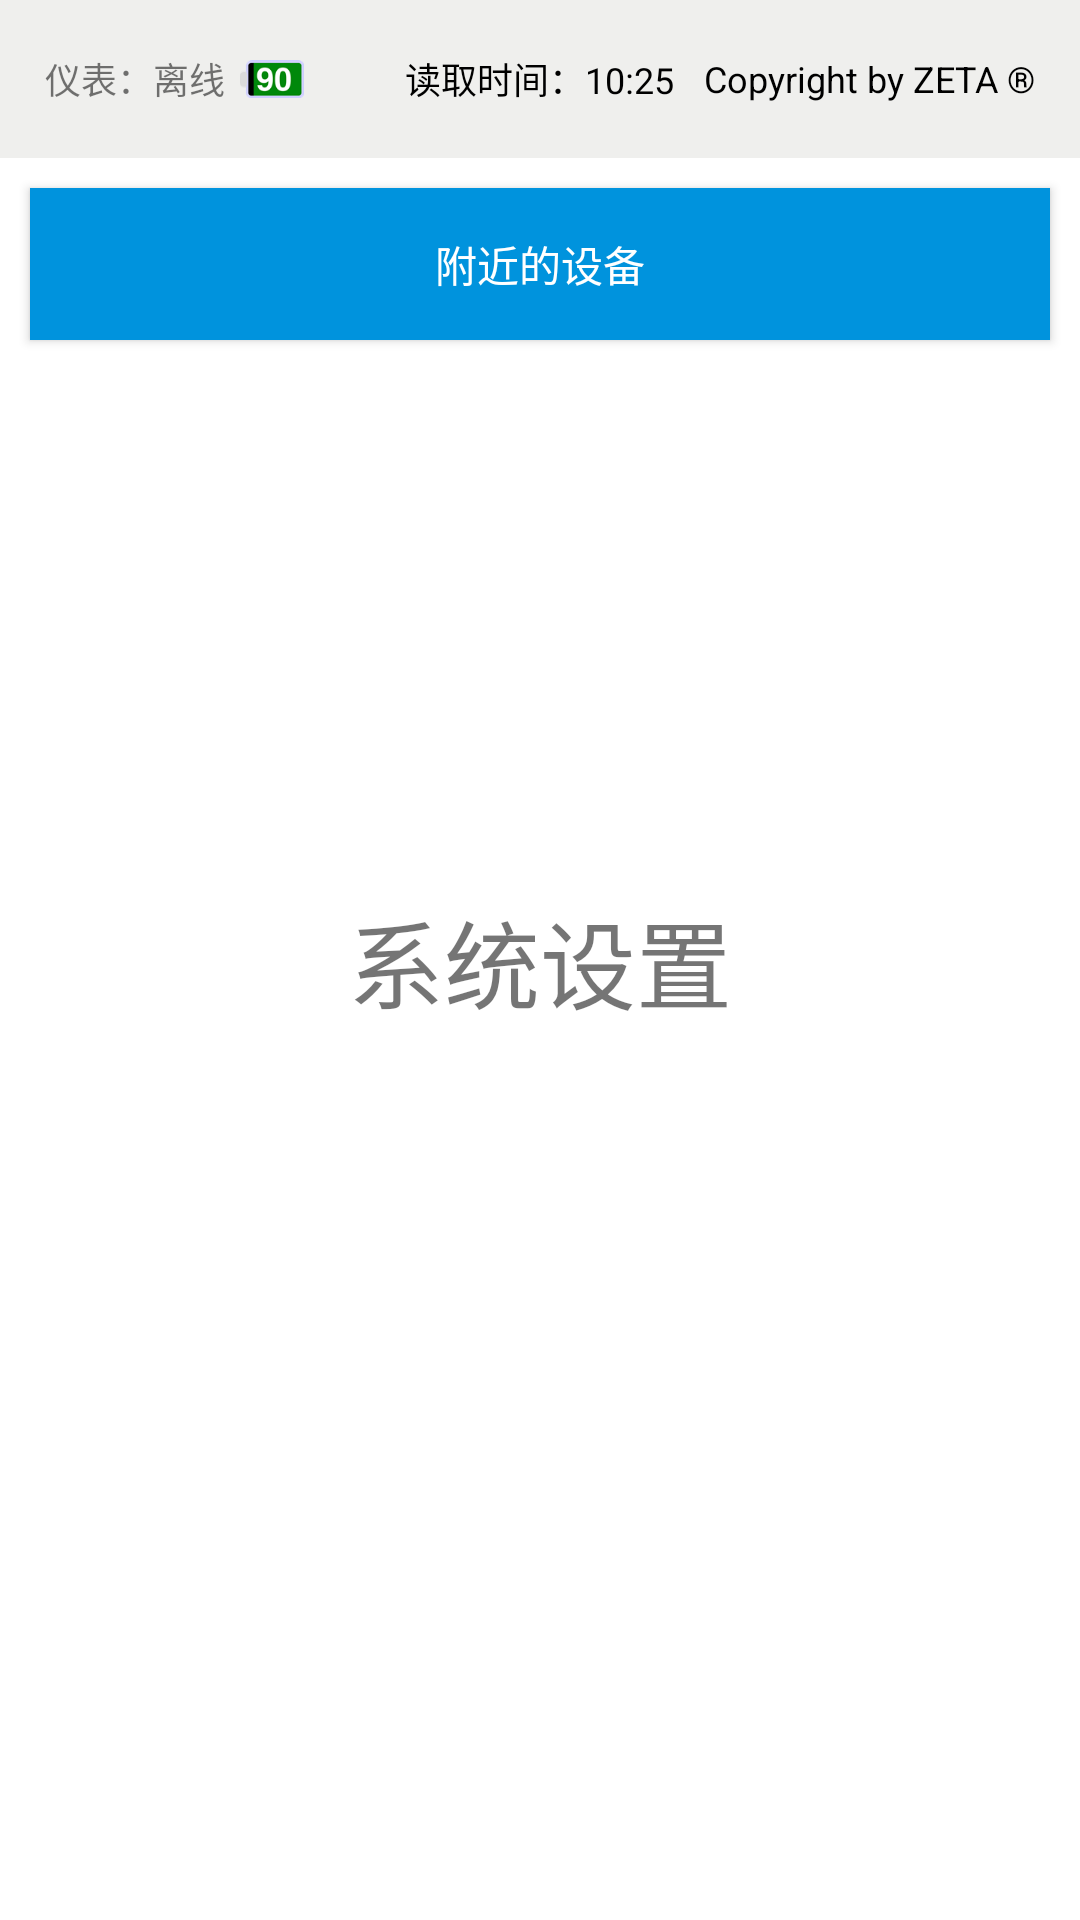

Icon click points for this 1080x1920 phone screenshot, format (x=x, y=y):
battery: (x=275, y=79)
